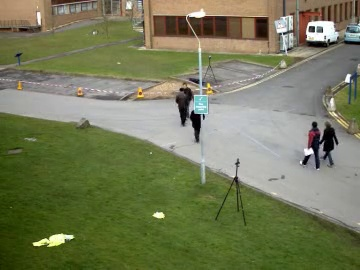person: (175, 87, 194, 126), (190, 106, 207, 144), (190, 105, 206, 143)
